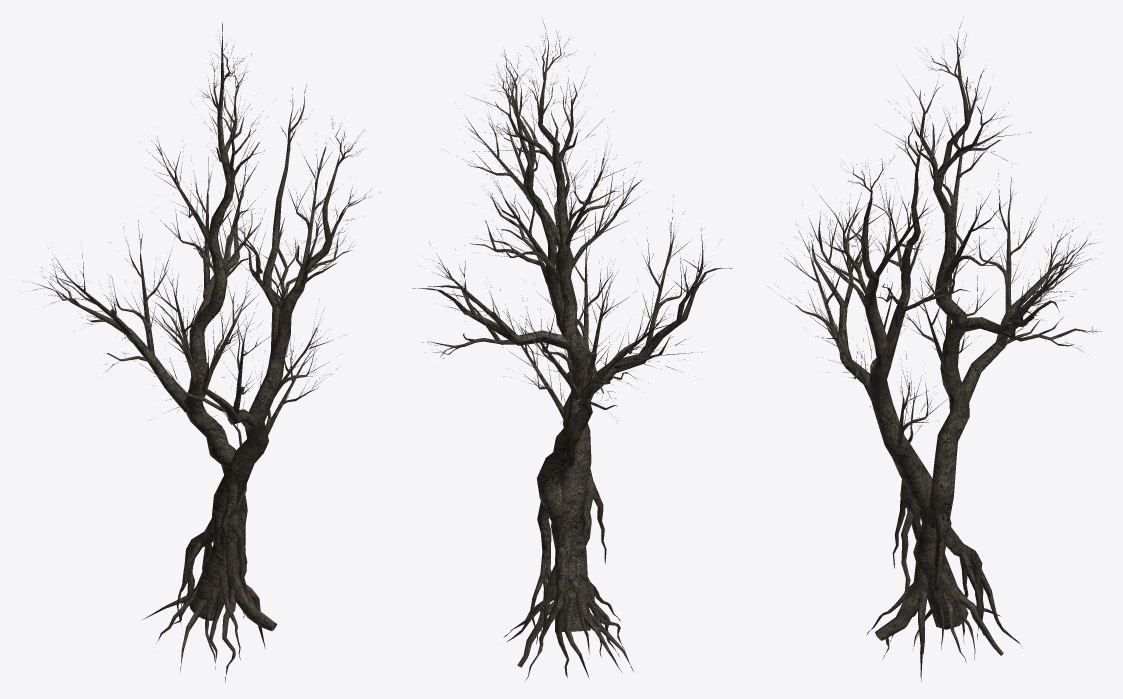
Rendered from tree_dead_03.glb.
3 renders of one model, left to right at view 1: azimuth 30°, elevation 25°; view 2: azimuth 150°, elevation 25°; view 3: azimuth 270°, elevation 25°, orthographic. The views are drawn at different scales.
Visible parts, largest first — view 1: Dead_tree_Mat.1_0; view 2: Dead_tree_Mat.1_0; view 3: Dead_tree_Mat.1_0.
Part boxes in pixels (bbox=[...]): Dead_tree_Mat.1_0: bbox=[20, 22, 381, 682]; Dead_tree_Mat.1_0: bbox=[412, 20, 732, 681]; Dead_tree_Mat.1_0: bbox=[769, 17, 1101, 681].
Size of the model in its own units: 6.24 by 14 by 6.58.
Materials: 1 (1 with a texture image).
